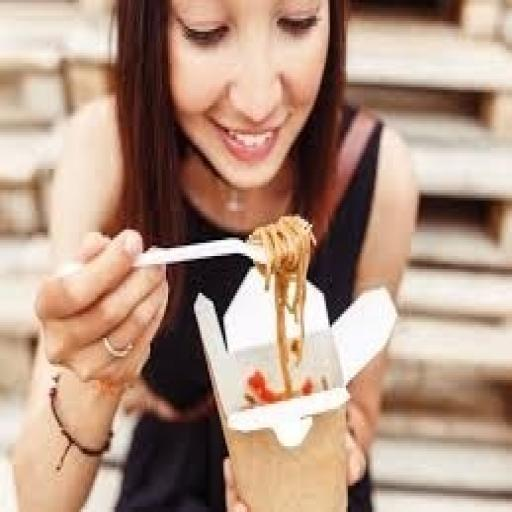eating: (8, 0, 421, 509)
